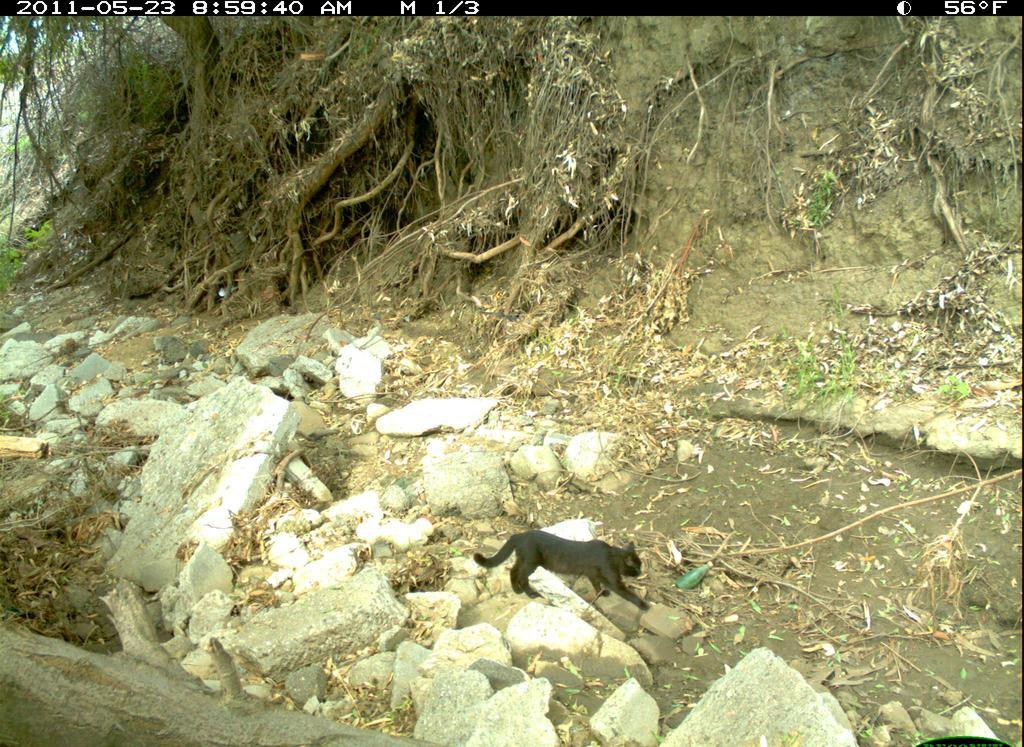cat: (469, 518, 667, 623)
